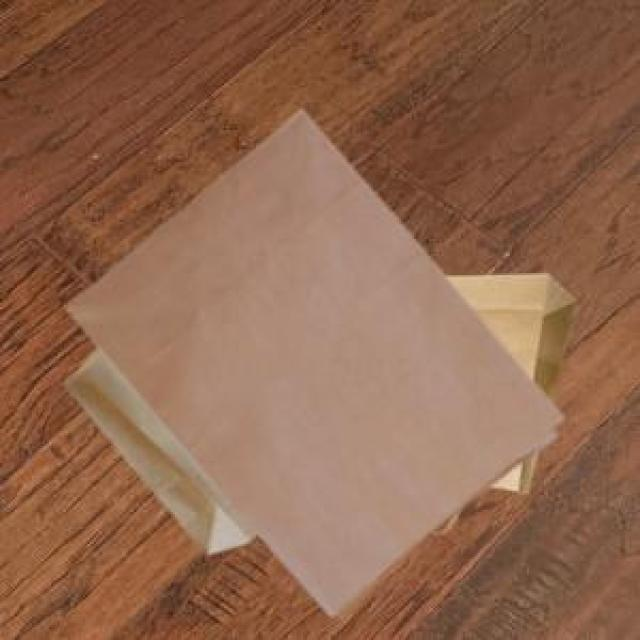paper: (64, 107, 559, 612), (62, 344, 252, 550), (443, 269, 572, 489)
